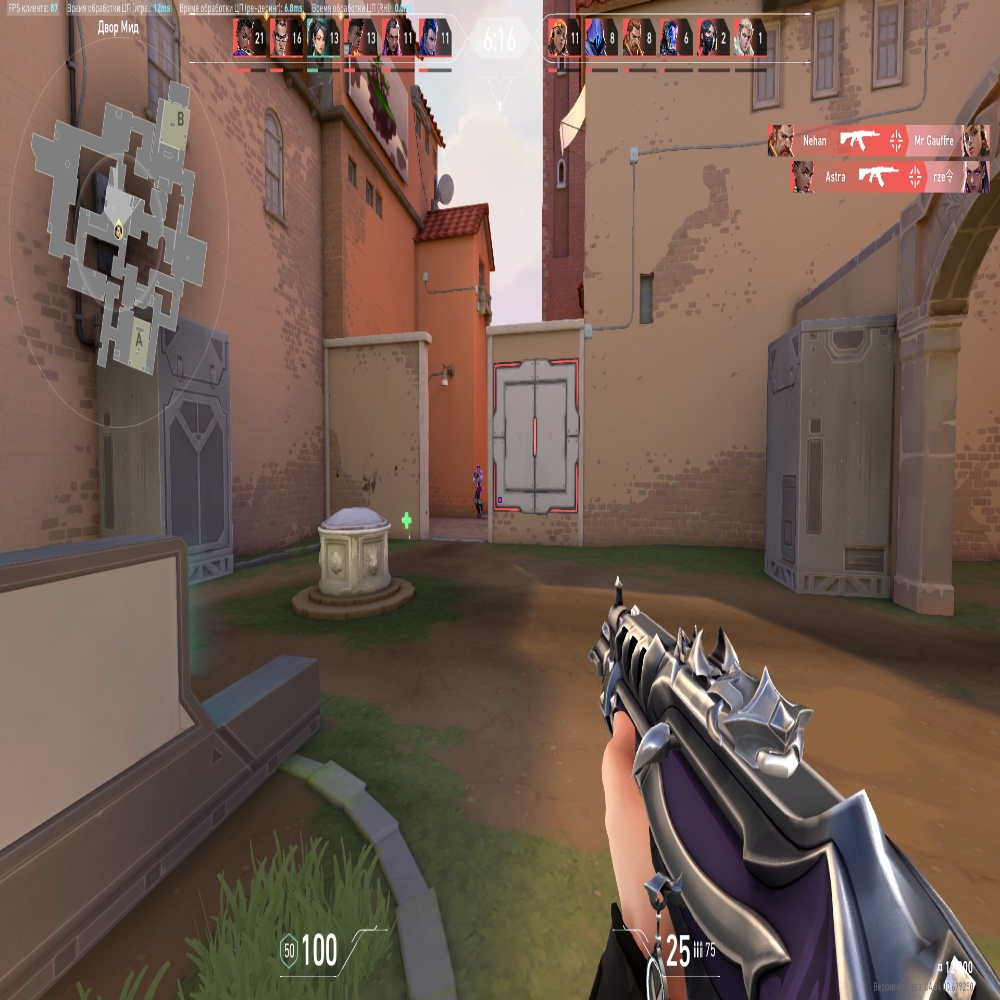body: (474, 472, 483, 492)
head: (476, 464, 480, 471)
